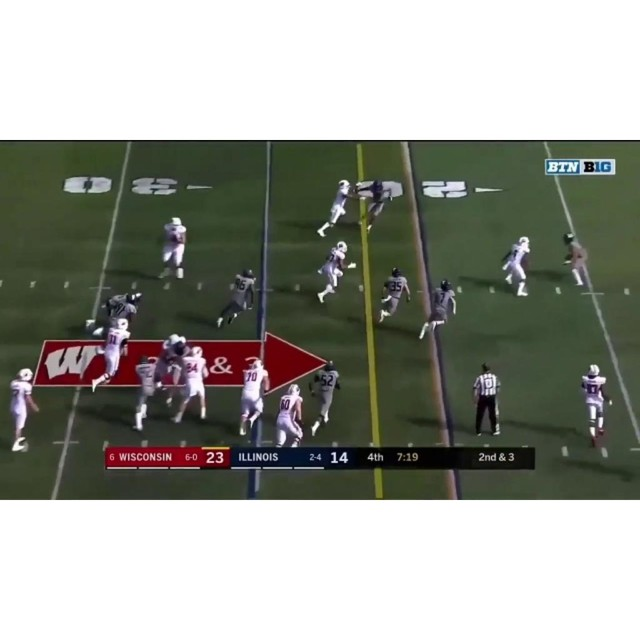american-football-player: (88, 315, 131, 392), (576, 363, 611, 451), (6, 367, 40, 452), (173, 345, 209, 424), (238, 356, 271, 439), (217, 268, 257, 329), (418, 279, 457, 341), (131, 354, 162, 430), (310, 361, 341, 437), (316, 241, 350, 304), (316, 180, 352, 237), (157, 217, 189, 281), (354, 178, 390, 233), (378, 266, 412, 324), (274, 384, 304, 447), (501, 238, 532, 297), (158, 333, 190, 386), (561, 233, 591, 289)
referee: (471, 362, 501, 437)
